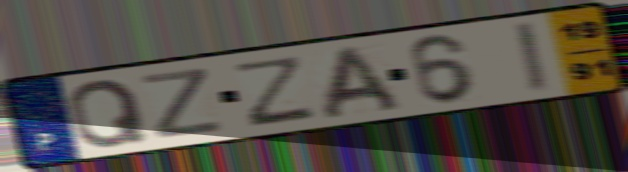6: (406, 31, 480, 107)
A: (319, 43, 407, 123)
I: (509, 18, 553, 96)
Q: (66, 76, 152, 151)
Z: (138, 65, 228, 142), (234, 52, 318, 129)
